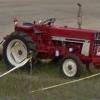Tractor: (7, 5, 90, 84)
